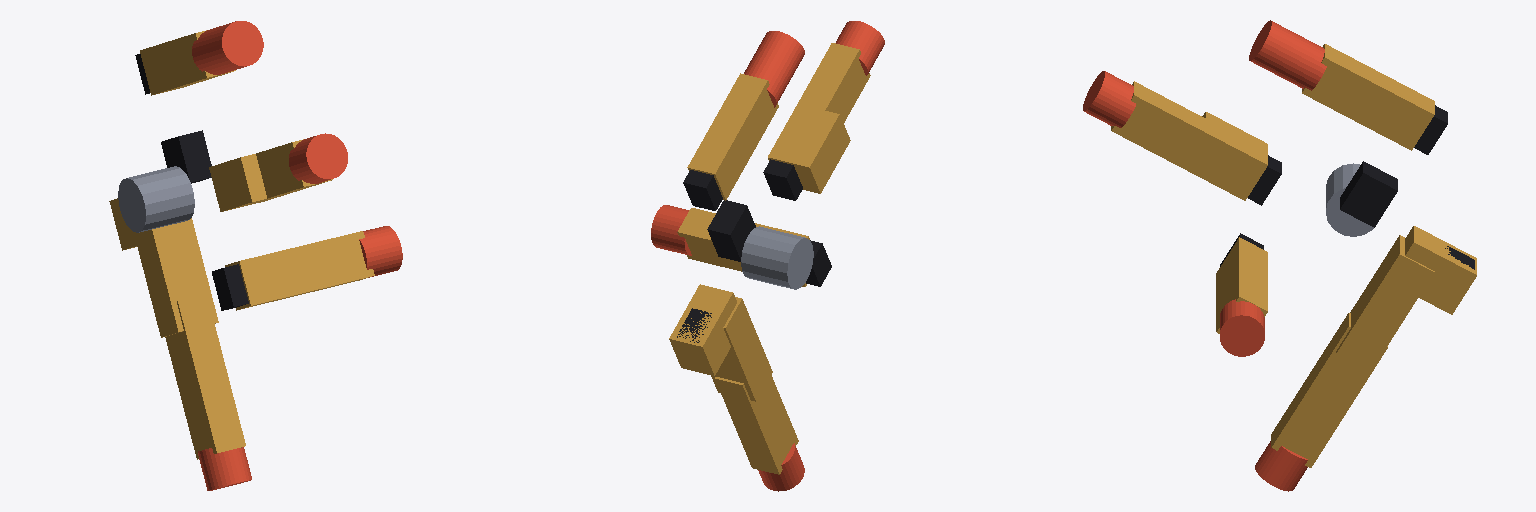
The robot description file, URDF, robot "g0029_c02":
<robot name="g0029_c02">
  <link name="palm">
    <visual name="palm_palm1">
      <origin xyz="0 0 0" rpy="0 0 0" />
      <geometry>
        <mesh filename="palm_palm1.obj" />
      </geometry>
      <material name="palm_palm1_mat">
        <color rgba="0.55 0.57 0.62 1" />
      </material>
    </visual>
    <collision>
      <origin xyz="0 0 0" rpy="0 0 0" />
      <geometry>
        <mesh filename="palm_palm1.obj" />
      </geometry>
    </collision>
    <visual name="palm_mount2">
      <origin xyz="0 0 0" rpy="0 0 0" />
      <geometry>
        <mesh filename="palm_mount2.obj" />
      </geometry>
      <material name="palm_mount2_mat">
        <color rgba="0.55 0.57 0.62 1" />
      </material>
    </visual>
    <collision>
      <origin xyz="0 0 0" rpy="0 0 0" />
      <geometry>
        <mesh filename="palm_mount2.obj" />
      </geometry>
    </collision>
    <visual name="palm_hinge3">
      <origin xyz="0 0.01125 0.0194855716" rpy="-1.57079633 0.523598776 1.57079633" />
      <geometry>
        <box size="0.029 0.034 0.02" />
      </geometry>
      <material name="palm_hinge3_mat">
        <color rgba="0.15 0.15 0.17 1" />
      </material>
    </visual>
    <collision>
      <origin xyz="0 0.01125 0.0194855716" rpy="-1.57079633 0.523598776 1.57079633" />
      <geometry>
        <box size="0.029 0.034 0.02" />
      </geometry>
    </collision>
    <visual name="palm_motor4">
      <origin xyz="-0.007 -0.08 -0.04" rpy="1.06057524e-16 -1.04719755 1.57079633" />
      <geometry>
        <box size="0.029 0.034 0.02" />
      </geometry>
      <material name="palm_motor4_mat">
        <color rgba="0.15 0.15 0.17 1" />
      </material>
    </visual>
    <collision>
      <origin xyz="-0.007 -0.08 -0.04" rpy="1.06057524e-16 -1.04719755 1.57079633" />
      <geometry>
        <box size="0.029 0.034 0.02" />
      </geometry>
    </collision>
    <visual name="palm_motor5">
      <origin xyz="0 -0.0735048095 0.03625" rpy="-1.57079633 -1.04719755 1.57079633" />
      <geometry>
        <box size="0.029 0.034 0.02" />
      </geometry>
      <material name="palm_motor5_mat">
        <color rgba="0.15 0.15 0.17 1" />
      </material>
    </visual>
    <collision>
      <origin xyz="0 -0.0735048095 0.03625" rpy="-1.57079633 -1.04719755 1.57079633" />
      <geometry>
        <box size="0.029 0.034 0.02" />
      </geometry>
    </collision>
    <visual name="palm_motor6">
      <origin xyz="-0.0045 0.0666996732 -0.0467548095" rpy="1.57079633 -0.523598776 -1.57079633" />
      <geometry>
        <box size="0.029 0.034 0.02" />
      </geometry>
      <material name="palm_motor6_mat">
        <color rgba="0.15 0.15 0.17 1" />
      </material>
    </visual>
    <collision>
      <origin xyz="-0.0045 0.0666996732 -0.0467548095" rpy="1.57079633 -0.523598776 -1.57079633" />
      <geometry>
        <box size="0.029 0.034 0.02" />
      </geometry>
    </collision>
    <inertial>
      <origin xyz="1.27792833e-19 -0.0178667017 -0.0140607606" rpy="1.57079633 0.368201914 1.57079633" />
      <mass value="0.724956373" />
      <inertia ixx="0.000611832695" ixy="0" ixz="0" iyy="0.00200497534" iyz="0" izz="0.00254721223" />
    </inertial>
  </link>
  <link name="palm0">
    <visual name="palm0_palm1">
      <origin xyz="0 0 0" rpy="0 0 0" />
      <geometry>
        <mesh filename="palm0_palm1.obj" />
      </geometry>
      <material name="palm0_palm1_mat">
        <color rgba="0.55 0.57 0.62 1" />
      </material>
    </visual>
    <collision>
      <origin xyz="0 0 0" rpy="0 0 0" />
      <geometry>
        <mesh filename="palm0_palm1.obj" />
      </geometry>
    </collision>
    <visual name="palm0_motor2">
      <origin xyz="0 0.0314951905 0.0502692379" rpy="-1.57079633 -1.04719755 1.57079633" />
      <geometry>
        <box size="0.029 0.034 0.02" />
      </geometry>
      <material name="palm0_motor2_mat">
        <color rgba="0.15 0.15 0.17 1" />
      </material>
    </visual>
    <collision>
      <origin xyz="0 0.0314951905 0.0502692379" rpy="-1.57079633 -1.04719755 1.57079633" />
      <geometry>
        <box size="0.029 0.034 0.02" />
      </geometry>
    </collision>
    <inertial>
      <origin xyz="8.32605364e-19 0.0168568403 0.0280276751" rpy="1.57079633 0.505683857 1.57079633" />
      <mass value="0.296720736" />
      <inertia ixx="0.000124604348" ixy="0" ixz="0" iyy="0.000347352699" iyz="0" izz="0.000443471856" />
    </inertial>
  </link>
  <link name="f0_link0">
    <visual name="f0_link0_link1">
      <origin xyz="0.01875 0 -6.9388939e-18" rpy="4.06369831e-17 2.80588734e-33 -2.0827301e-33" />
      <geometry>
        <box size="0.0615 0.033 0.024" />
      </geometry>
      <material name="f0_link0_link1_mat">
        <color rgba="0.80 0.62 0.30 1" />
      </material>
    </visual>
    <collision>
      <origin xyz="0.01875 0 -6.9388939e-18" rpy="4.06369831e-17 2.80588734e-33 -2.0827301e-33" />
      <geometry>
        <box size="0.0615 0.033 0.024" />
      </geometry>
    </collision>
    <inertial>
      <origin xyz="0.01875 0 0" rpy="0 0 0" />
      <mass value="0.085239" />
      <inertia ixx="1.18269113e-05" ixy="0" ixz="0" iyy="3.09577393e-05" iyz="0" izz="3.46017066e-05" />
    </inertial>
  </link>
  <link name="f0_link1">
    <visual name="f0_link1_link1">
      <origin xyz="0.01875 1.38777878e-17 -6.9388939e-18" rpy="4.06369831e-17 2.80588734e-33 -2.0827301e-33" />
      <geometry>
        <box size="0.0615 0.033 0.024" />
      </geometry>
      <material name="f0_link1_link1_mat">
        <color rgba="0.80 0.62 0.30 1" />
      </material>
    </visual>
    <collision>
      <origin xyz="0.01875 1.38777878e-17 -6.9388939e-18" rpy="4.06369831e-17 2.80588734e-33 -2.0827301e-33" />
      <geometry>
        <box size="0.0615 0.033 0.024" />
      </geometry>
    </collision>
    <inertial>
      <origin xyz="0.01875 0 0" rpy="0 0 0" />
      <mass value="0.085239" />
      <inertia ixx="1.18269113e-05" ixy="0" ixz="0" iyy="3.09577393e-05" iyz="0" izz="3.46017066e-05" />
    </inertial>
  </link>
  <link name="f0_link2">
    <visual name="f0_link2_link1">
      <origin xyz="0.019 1.38777878e-17 -6.9388939e-18" rpy="-1.57079633 -0 -1.57079633" />
      <geometry>
        <cylinder radius="0.0165" length="0.029" />
      </geometry>
      <material name="f0_link2_link1_mat">
        <color rgba="0.85 0.35 0.25 1" />
      </material>
    </visual>
    <collision>
      <origin xyz="0.019 1.38777878e-17 -6.9388939e-18" rpy="-1.57079633 -0 -1.57079633" />
      <geometry>
        <cylinder radius="0.0165" length="0.029" />
      </geometry>
    </collision>
    <inertial>
      <origin xyz="0.019 0 0" rpy="0 0 0" />
      <mass value="0.0763354" />
      <inertia ixx="9.49466441e-06" ixy="0" ixz="0" iyy="2.24143997e-05" iyz="0" izz="2.24143997e-05" />
    </inertial>
  </link>
  <link name="f1_link0">
    <visual name="f1_link0_link1">
      <origin xyz="0.014 -0.00625 -4.33680869e-18" rpy="0 7.03853194e-17 0" />
      <geometry>
        <box size="0.052 0.0365 0.033" />
      </geometry>
      <material name="f1_link0_link1_mat">
        <color rgba="0.80 0.62 0.30 1" />
      </material>
    </visual>
    <collision>
      <origin xyz="0.014 -0.00625 -4.33680869e-18" rpy="0 7.03853194e-17 0" />
      <geometry>
        <box size="0.052 0.0365 0.033" />
      </geometry>
    </collision>
    <inertial>
      <origin xyz="0.014 -0.00625 0" rpy="0 0 0" />
      <mass value="0.1096095" />
      <inertia ixx="2.21160002e-05" ixy="0" ixz="0" iyy="3.46457361e-05" iyz="0" izz="3.6867612e-05" />
    </inertial>
  </link>
  <link name="f1_link1">
    <visual name="f1_link1_link1">
      <origin xyz="0.02875 0 0" rpy="0 7.03853194e-17 0" />
      <geometry>
        <box size="0.0815 0.024 0.033" />
      </geometry>
      <material name="f1_link1_link1_mat">
        <color rgba="0.80 0.62 0.30 1" />
      </material>
    </visual>
    <collision>
      <origin xyz="0.02875 0 0" rpy="0 7.03853194e-17 0" />
      <geometry>
        <box size="0.0815 0.024 0.033" />
      </geometry>
    </collision>
    <inertial>
      <origin xyz="0.02875 0 0" rpy="0 0 0" />
      <mass value="0.112959" />
      <inertia ixx="1.56730613e-05" ixy="0" ixz="0" iyy="7.27761891e-05" iyz="0" izz="6.79471918e-05" />
    </inertial>
  </link>
  <link name="f1_link2">
    <visual name="f1_link2_link1">
      <origin xyz="0.019 0 3.03576608e-18" rpy="-1.57079633 -0 -1.57079633" />
      <geometry>
        <cylinder radius="0.0165" length="0.029" />
      </geometry>
      <material name="f1_link2_link1_mat">
        <color rgba="0.85 0.35 0.25 1" />
      </material>
    </visual>
    <collision>
      <origin xyz="0.019 0 3.03576608e-18" rpy="-1.57079633 -0 -1.57079633" />
      <geometry>
        <cylinder radius="0.0165" length="0.029" />
      </geometry>
    </collision>
    <inertial>
      <origin xyz="0.019 0 0" rpy="0 0 0" />
      <mass value="0.0763354" />
      <inertia ixx="9.49466441e-06" ixy="0" ixz="0" iyy="2.24143997e-05" iyz="0" izz="2.24143997e-05" />
    </inertial>
  </link>
  <link name="f2_link0">
    <visual name="f2_link0_link1">
      <origin xyz="-0.00625 0 -0.0165" rpy="0 4.06369831e-17 0" />
      <geometry>
        <box size="0.0365 0.029 0.053" />
      </geometry>
      <material name="f2_link0_link1_mat">
        <color rgba="0.80 0.62 0.30 1" />
      </material>
    </visual>
    <collision>
      <origin xyz="-0.00625 0 -0.0165" rpy="0 4.06369831e-17 0" />
      <geometry>
        <box size="0.0365 0.029 0.053" />
      </geometry>
    </collision>
    <inertial>
      <origin xyz="-0.00625 0 -0.0165" rpy="0 0 0" />
      <mass value="0.098175875" />
      <inertia ixx="2.98618286e-05" ixy="0" ixz="0" iyy="3.38809035e-05" iyz="0" izz="1.778006e-05" />
    </inertial>
  </link>
  <link name="f2_link1">
    <visual name="f2_link1_link1">
      <origin xyz="0.03375 0 6.9388939e-18" rpy="0 4.06369831e-17 0" />
      <geometry>
        <box size="0.0915 0.033 0.029" />
      </geometry>
      <material name="f2_link1_link1_mat">
        <color rgba="0.80 0.62 0.30 1" />
      </material>
    </visual>
    <collision>
      <origin xyz="0.03375 0 6.9388939e-18" rpy="0 4.06369831e-17 0" />
      <geometry>
        <box size="0.0915 0.033 0.029" />
      </geometry>
    </collision>
    <inertial>
      <origin xyz="0.03375 0 0" rpy="0 0 0" />
      <mass value="0.153239625" />
      <inertia ixx="2.46460397e-05" ixy="0" ixz="0" iyy="0.000117652915" iyz="0" izz="0.000120819867" />
    </inertial>
  </link>
  <link name="f2_link2">
    <visual name="f2_link2_link1">
      <origin xyz="0.04375 0 -6.9388939e-18" rpy="0 4.06369831e-17 0" />
      <geometry>
        <box size="0.1115 0.024 0.033" />
      </geometry>
      <material name="f2_link2_link1_mat">
        <color rgba="0.80 0.62 0.30 1" />
      </material>
    </visual>
    <collision>
      <origin xyz="0.04375 0 -6.9388939e-18" rpy="0 4.06369831e-17 0" />
      <geometry>
        <box size="0.1115 0.024 0.033" />
      </geometry>
    </collision>
    <inertial>
      <origin xyz="0.04375 0 0" rpy="0 0 0" />
      <mass value="0.154539" />
      <inertia ixx="2.14422863e-05" ixy="0" ixz="0" iyy="0.000174130038" iyz="0" izz="0.000167523496" />
    </inertial>
  </link>
  <link name="f2_link3">
    <visual name="f2_link3_link1">
      <origin xyz="0.019 0 -1.73472348e-17" rpy="-1.57079633 -0 -1.57079633" />
      <geometry>
        <cylinder radius="0.0165" length="0.029" />
      </geometry>
      <material name="f2_link3_link1_mat">
        <color rgba="0.85 0.35 0.25 1" />
      </material>
    </visual>
    <collision>
      <origin xyz="0.019 0 -1.73472348e-17" rpy="-1.57079633 -0 -1.57079633" />
      <geometry>
        <cylinder radius="0.0165" length="0.029" />
      </geometry>
    </collision>
    <inertial>
      <origin xyz="0.019 0 0" rpy="0 0 0" />
      <mass value="0.0763354" />
      <inertia ixx="9.49466441e-06" ixy="0" ixz="0" iyy="2.24143997e-05" iyz="0" izz="2.24143997e-05" />
    </inertial>
  </link>
  <link name="f3_link0">
    <visual name="f3_link0_link1">
      <origin xyz="0.03375 0 0" rpy="0 7.03853194e-17 0" />
      <geometry>
        <box size="0.0915 0.024 0.033" />
      </geometry>
      <material name="f3_link0_link1_mat">
        <color rgba="0.80 0.62 0.30 1" />
      </material>
    </visual>
    <collision>
      <origin xyz="0.03375 0 0" rpy="0 7.03853194e-17 0" />
      <geometry>
        <box size="0.0915 0.024 0.033" />
      </geometry>
    </collision>
    <inertial>
      <origin xyz="0.03375 0 0" rpy="0 0 0" />
      <mass value="0.126819" />
      <inertia ixx="1.75961363e-05" ixy="0" ixz="0" iyy="9.99888553e-05" iyz="0" izz="9.45673431e-05" />
    </inertial>
  </link>
  <link name="f3_link1">
    <visual name="f3_link1_link1">
      <origin xyz="0.029 0 -6.9388939e-18" rpy="-1.57079633 -0 -1.57079633" />
      <geometry>
        <cylinder radius="0.0165" length="0.049" />
      </geometry>
      <material name="f3_link1_link1_mat">
        <color rgba="0.85 0.35 0.25 1" />
      </material>
    </visual>
    <collision>
      <origin xyz="0.029 0 -6.9388939e-18" rpy="-1.57079633 -0 -1.57079633" />
      <geometry>
        <cylinder radius="0.0165" length="0.049" />
      </geometry>
    </collision>
    <inertial>
      <origin xyz="0.029 0 0" rpy="0 0 0" />
      <mass value="0.106270851" />
      <inertia ixx="1.35696277e-05" ixy="0" ixz="0" iyy="5.30015704e-05" iyz="0" izz="5.30015704e-05" />
    </inertial>
  </link>
  <joint name="palm0_joint" type="revolute">
    <parent link="palm" />
    <child link="palm0" />
    <origin xyz="0 0.015 0.0259807621" rpy="0 0 0" />
    <axis xyz="0 0.866025404 -0.5" />
    <limit effort="0.5" lower="-0.523598776" upper="0.523598776" velocity="5" />
    <dynamics damping="0.0775033" friction="0" />
  </joint>
  <joint name="f0_j0" type="revolute">
    <parent link="palm" />
    <child link="f0_link0" />
    <origin xyz="0.0005 -0.08 -0.04" rpy="1.04719755 5.30287619e-17 -3.061617e-17" />
    <axis xyz="0 1 6.123234e-17" />
    <limit effort="0.5" lower="-0.523598776" upper="0.523598776" velocity="5" />
    <dynamics damping="0.0775033" friction="0" />
  </joint>
  <joint name="f0_j1" type="revolute">
    <parent link="f0_link0" />
    <child link="f0_link1" />
    <origin xyz="0.04 0 0" rpy="0 0 0" />
    <axis xyz="0 1 6.123234e-17" />
    <limit effort="0.5" lower="-0.523598776" upper="0.523598776" velocity="5" />
    <dynamics damping="0.0775033" friction="0" />
  </joint>
  <joint name="f0_j2" type="revolute">
    <parent link="f0_link1" />
    <child link="f0_link2" />
    <origin xyz="0.04 0 0" rpy="0 0 0" />
    <axis xyz="0 1 6.123234e-17" />
    <limit effort="0.5" lower="-0.523598776" upper="0.523598776" velocity="5" />
    <dynamics damping="0.0775033" friction="0" />
  </joint>
  <joint name="f1_j0" type="revolute">
    <parent link="palm" />
    <child link="f1_link0" />
    <origin xyz="0 -0.08 0.04" rpy="-0 -0.523598776 -1.57079633" />
    <axis xyz="0 0 1" />
    <limit effort="0.5" lower="-0.523598776" upper="1.57079633" velocity="5" />
    <dynamics damping="0.0775033" friction="0" />
  </joint>
  <joint name="f1_j1" type="revolute">
    <parent link="f1_link0" />
    <child link="f1_link1" />
    <origin xyz="0.03 0 0" rpy="0 0 0" />
    <axis xyz="0 0 1" />
    <limit effort="0.5" lower="-0.523598776" upper="1.57079633" velocity="5" />
    <dynamics damping="0.0775033" friction="0" />
  </joint>
  <joint name="f1_j2" type="revolute">
    <parent link="f1_link1" />
    <child link="f1_link2" />
    <origin xyz="0.06 0 0" rpy="0 0 0" />
    <axis xyz="0 0 1" />
    <limit effort="0.5" lower="-0.523598776" upper="1.57079633" velocity="5" />
    <dynamics damping="0.0775033" friction="0" />
  </joint>
  <joint name="f2_j0" type="revolute">
    <parent link="palm" />
    <child link="f2_link0" />
    <origin xyz="-0.0045 0.04 -0.04" rpy="0 1.04719755 -1.57079633" />
    <axis xyz="0 0 1" />
    <limit effort="0.5" lower="-0.523598776" upper="1.57079633" velocity="5" />
    <dynamics damping="0.0775033" friction="0" />
  </joint>
  <joint name="f2_j1" type="revolute">
    <parent link="f2_link0" />
    <child link="f2_link1" />
    <origin xyz="0 0 0" rpy="0 0 0" />
    <axis xyz="0 1 6.123234e-17" />
    <limit effort="0.5" lower="-0.523598776" upper="0.523598776" velocity="5" />
    <dynamics damping="0.0775033" friction="0" />
  </joint>
  <joint name="f2_j2" type="revolute">
    <parent link="f2_link1" />
    <child link="f2_link2" />
    <origin xyz="0.07 0 0" rpy="0 0 0" />
    <axis xyz="0 0 1" />
    <limit effort="0.5" lower="-0.523598776" upper="1.57079633" velocity="5" />
    <dynamics damping="0.0775033" friction="0" />
  </joint>
  <joint name="f2_j3" type="revolute">
    <parent link="f2_link2" />
    <child link="f2_link3" />
    <origin xyz="0.09 0 0" rpy="0 0 0" />
    <axis xyz="0 0 1" />
    <limit effort="0.5" lower="-0.523598776" upper="1.57079633" velocity="5" />
    <dynamics damping="0.0775033" friction="0" />
  </joint>
  <joint name="f3_j0" type="revolute">
    <parent link="palm0" />
    <child link="f3_link0" />
    <origin xyz="0 0.025 0.0540192379" rpy="-0 -0.523598776 -1.57079633" />
    <axis xyz="0 0 1" />
    <limit effort="0.5" lower="-0.523598776" upper="1.57079633" velocity="5" />
    <dynamics damping="0.0775033" friction="0" />
  </joint>
  <joint name="f3_j1" type="revolute">
    <parent link="f3_link0" />
    <child link="f3_link1" />
    <origin xyz="0.07 0 0" rpy="0 0 0" />
    <axis xyz="0 0 1" />
    <limit effort="0.5" lower="-0.523598776" upper="1.57079633" velocity="5" />
    <dynamics damping="0.0775033" friction="0" />
  </joint>
</robot>

--- Facts derived from the render (not from the file) ---
The picture shows the robot from 3 angles, left to right: view 1: azimuth 30°, elevation 25°; view 2: azimuth 150°, elevation 25°; view 3: azimuth 270°, elevation 25°; orthographic projection.
Robot: g0029_c02 — 14 links, 13 joints (13 revolute); root link palm; default pose: all joints at 0.
Visible links, largest first — view 1: f2_link2, palm, f2_link1, f0_link1, f3_link1, f0_link0, f3_link0, f1_link0, f1_link2, f2_link3, f1_link1, f0_link2 (+1 smaller); view 2: palm, f3_link0, f2_link2, f1_link0, f2_link0, f1_link1, f2_link1, f3_link1, f0_link1, f0_link2, f1_link2, palm0 (+1 smaller); view 3: f3_link0, f2_link2, f2_link1, f1_link1, palm, f2_link0, f3_link1, f1_link0, f0_link2, f1_link2, f2_link3, f0_link1 (+2 smaller).
Link boxes in pixels (left/top/right/bottom): f2_link2: left=165, top=294, right=245, bottom=459; palm: left=118, top=130, right=248, bottom=310; f2_link1: left=134, top=218, right=218, bottom=337; f0_link1: left=288, top=231, right=374, bottom=293; f3_link1: left=192, top=21, right=263, bottom=74; f0_link0: left=225, top=243, right=322, bottom=310; f3_link0: left=140, top=30, right=235, bottom=95; f1_link0: left=209, top=154, right=296, bottom=211; f1_link2: left=289, top=133, right=347, bottom=183; f2_link3: left=198, top=447, right=251, bottom=490; f1_link1: left=256, top=139, right=332, bottom=198; f0_link2: left=359, top=226, right=402, bottom=277; palm: left=677, top=159, right=831, bottom=342; f3_link0: left=687, top=73, right=778, bottom=200; f2_link2: left=715, top=375, right=798, bottom=474; f1_link0: left=768, top=104, right=850, bottom=193; f2_link0: left=669, top=284, right=736, bottom=375; f1_link1: left=796, top=43, right=870, bottom=132; f2_link1: left=711, top=297, right=772, bottom=401; f3_link1: left=744, top=31, right=804, bottom=107; f0_link1: left=677, top=208, right=761, bottom=269; f0_link2: left=651, top=205, right=691, bottom=255; f1_link2: left=836, top=21, right=884, bottom=75; palm0: left=683, top=170, right=722, bottom=210; f3_link0: left=1302, top=44, right=1434, bottom=150; f2_link2: left=1271, top=313, right=1387, bottom=467; f2_link1: left=1336, top=235, right=1434, bottom=371; f1_link1: left=1111, top=81, right=1231, bottom=181; palm: left=1220, top=155, right=1474, bottom=269; f2_link0: left=1405, top=226, right=1476, bottom=314; f3_link1: left=1249, top=20, right=1326, bottom=90; f1_link0: left=1188, top=112, right=1267, bottom=200; f0_link2: left=1220, top=299, right=1264, bottom=356; f1_link2: left=1083, top=71, right=1135, bottom=127; f2_link3: left=1255, top=441, right=1307, bottom=491; f0_link1: left=1216, top=261, right=1267, bottom=333.
Bounding box of the posed robot: 0.166 × 0.2847 × 0.3719 m (x, y, z).
Meshes: 3 distinct files referenced, 1 mesh visuals loaded (1 OBJ); not drawn: 2 (reference not matched to a file when rendering).
